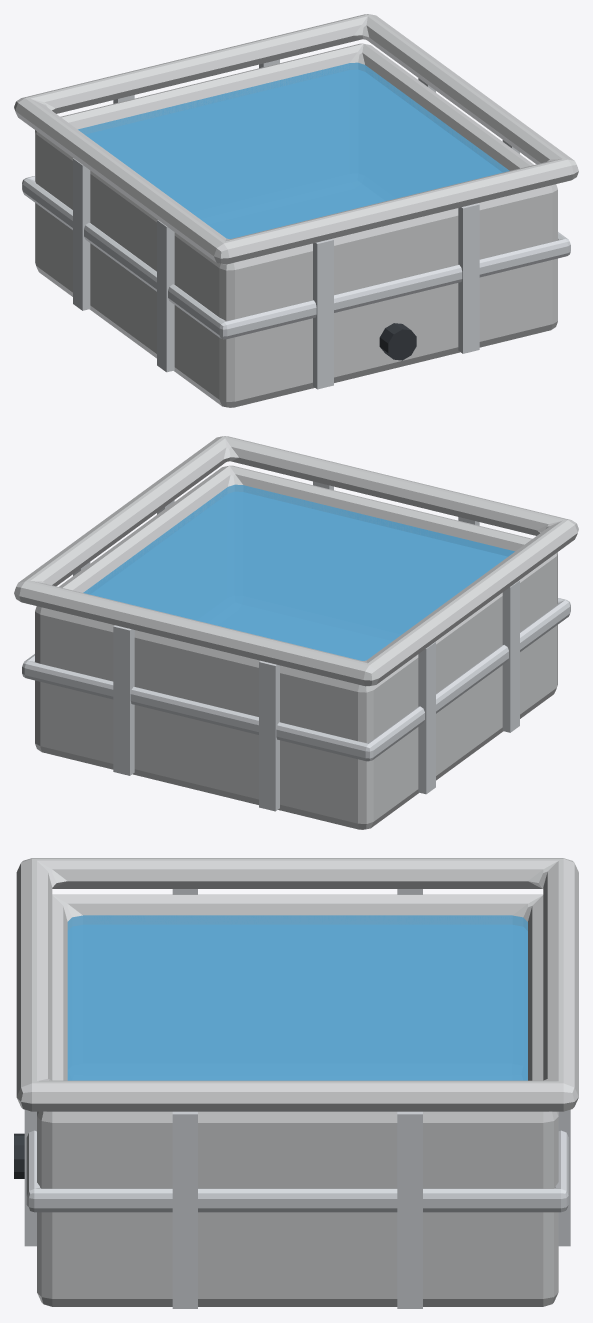
Rendered from tub.glb.
3 views of the same model, one above another, from view 1: azimuth 30°, elevation 25°; view 2: azimuth 150°, elevation 25°; view 3: azimuth 270°, elevation 25° (orthographic). The views are drawn at different scales.
Visible parts, largest first — view 1: Tub_Body, Tub_Water, Tub_Rim, Tub_Band, Tub_Rib.004, Tub_Rib, Tub_Rib.002, Tub_Rib.006, Tub_Drain; view 2: Tub_Body, Tub_Water, Tub_Rim, Tub_Band, Tub_Rib.005, Tub_Rib.001, Tub_Rib.006, Tub_Rib.002; view 3: Tub_Body, Tub_Water, Tub_Rim, Tub_Band, Tub_Rib.007, Tub_Rib.003, Tub_Rib.004, Tub_Rib.005.
Part boxes in pixels (x1,y1,x2,y2): Tub_Body: (35,43,557,407); Tub_Water: (78,62,509,238); Tub_Rim: (14,14,578,264); Tub_Band: (22,176,570,339); Tub_Rib.004: (458,203,479,353); Tub_Rib: (313,239,333,389); Tub_Rib.002: (157,220,174,372); Tub_Rib.006: (73,158,90,310); Tub_Drain: (379,323,416,360); Tub_Body: (35,465,557,829); Tub_Water: (83,484,514,660); Tub_Rim: (14,436,578,686); Tub_Band: (22,598,570,761); Tub_Rib.005: (113,625,134,775); Tub_Rib.001: (259,661,279,811); Tub_Rib.006: (418,642,435,794); Tub_Rib.002: (502,580,519,732); Tub_Body: (37,894,558,1306); Tub_Water: (67,915,527,1080); Tub_Rim: (16,858,578,1111); Tub_Band: (26,1130,568,1212); Tub_Rib.007: (397,1111,422,1308); Tub_Rib.003: (172,1111,197,1308); Tub_Rib.004: (24,1109,36,1246); Tub_Rib.005: (558,1109,570,1246).
Bounding box in the file's own units: 1.1 × 0.5 × 1.1.
